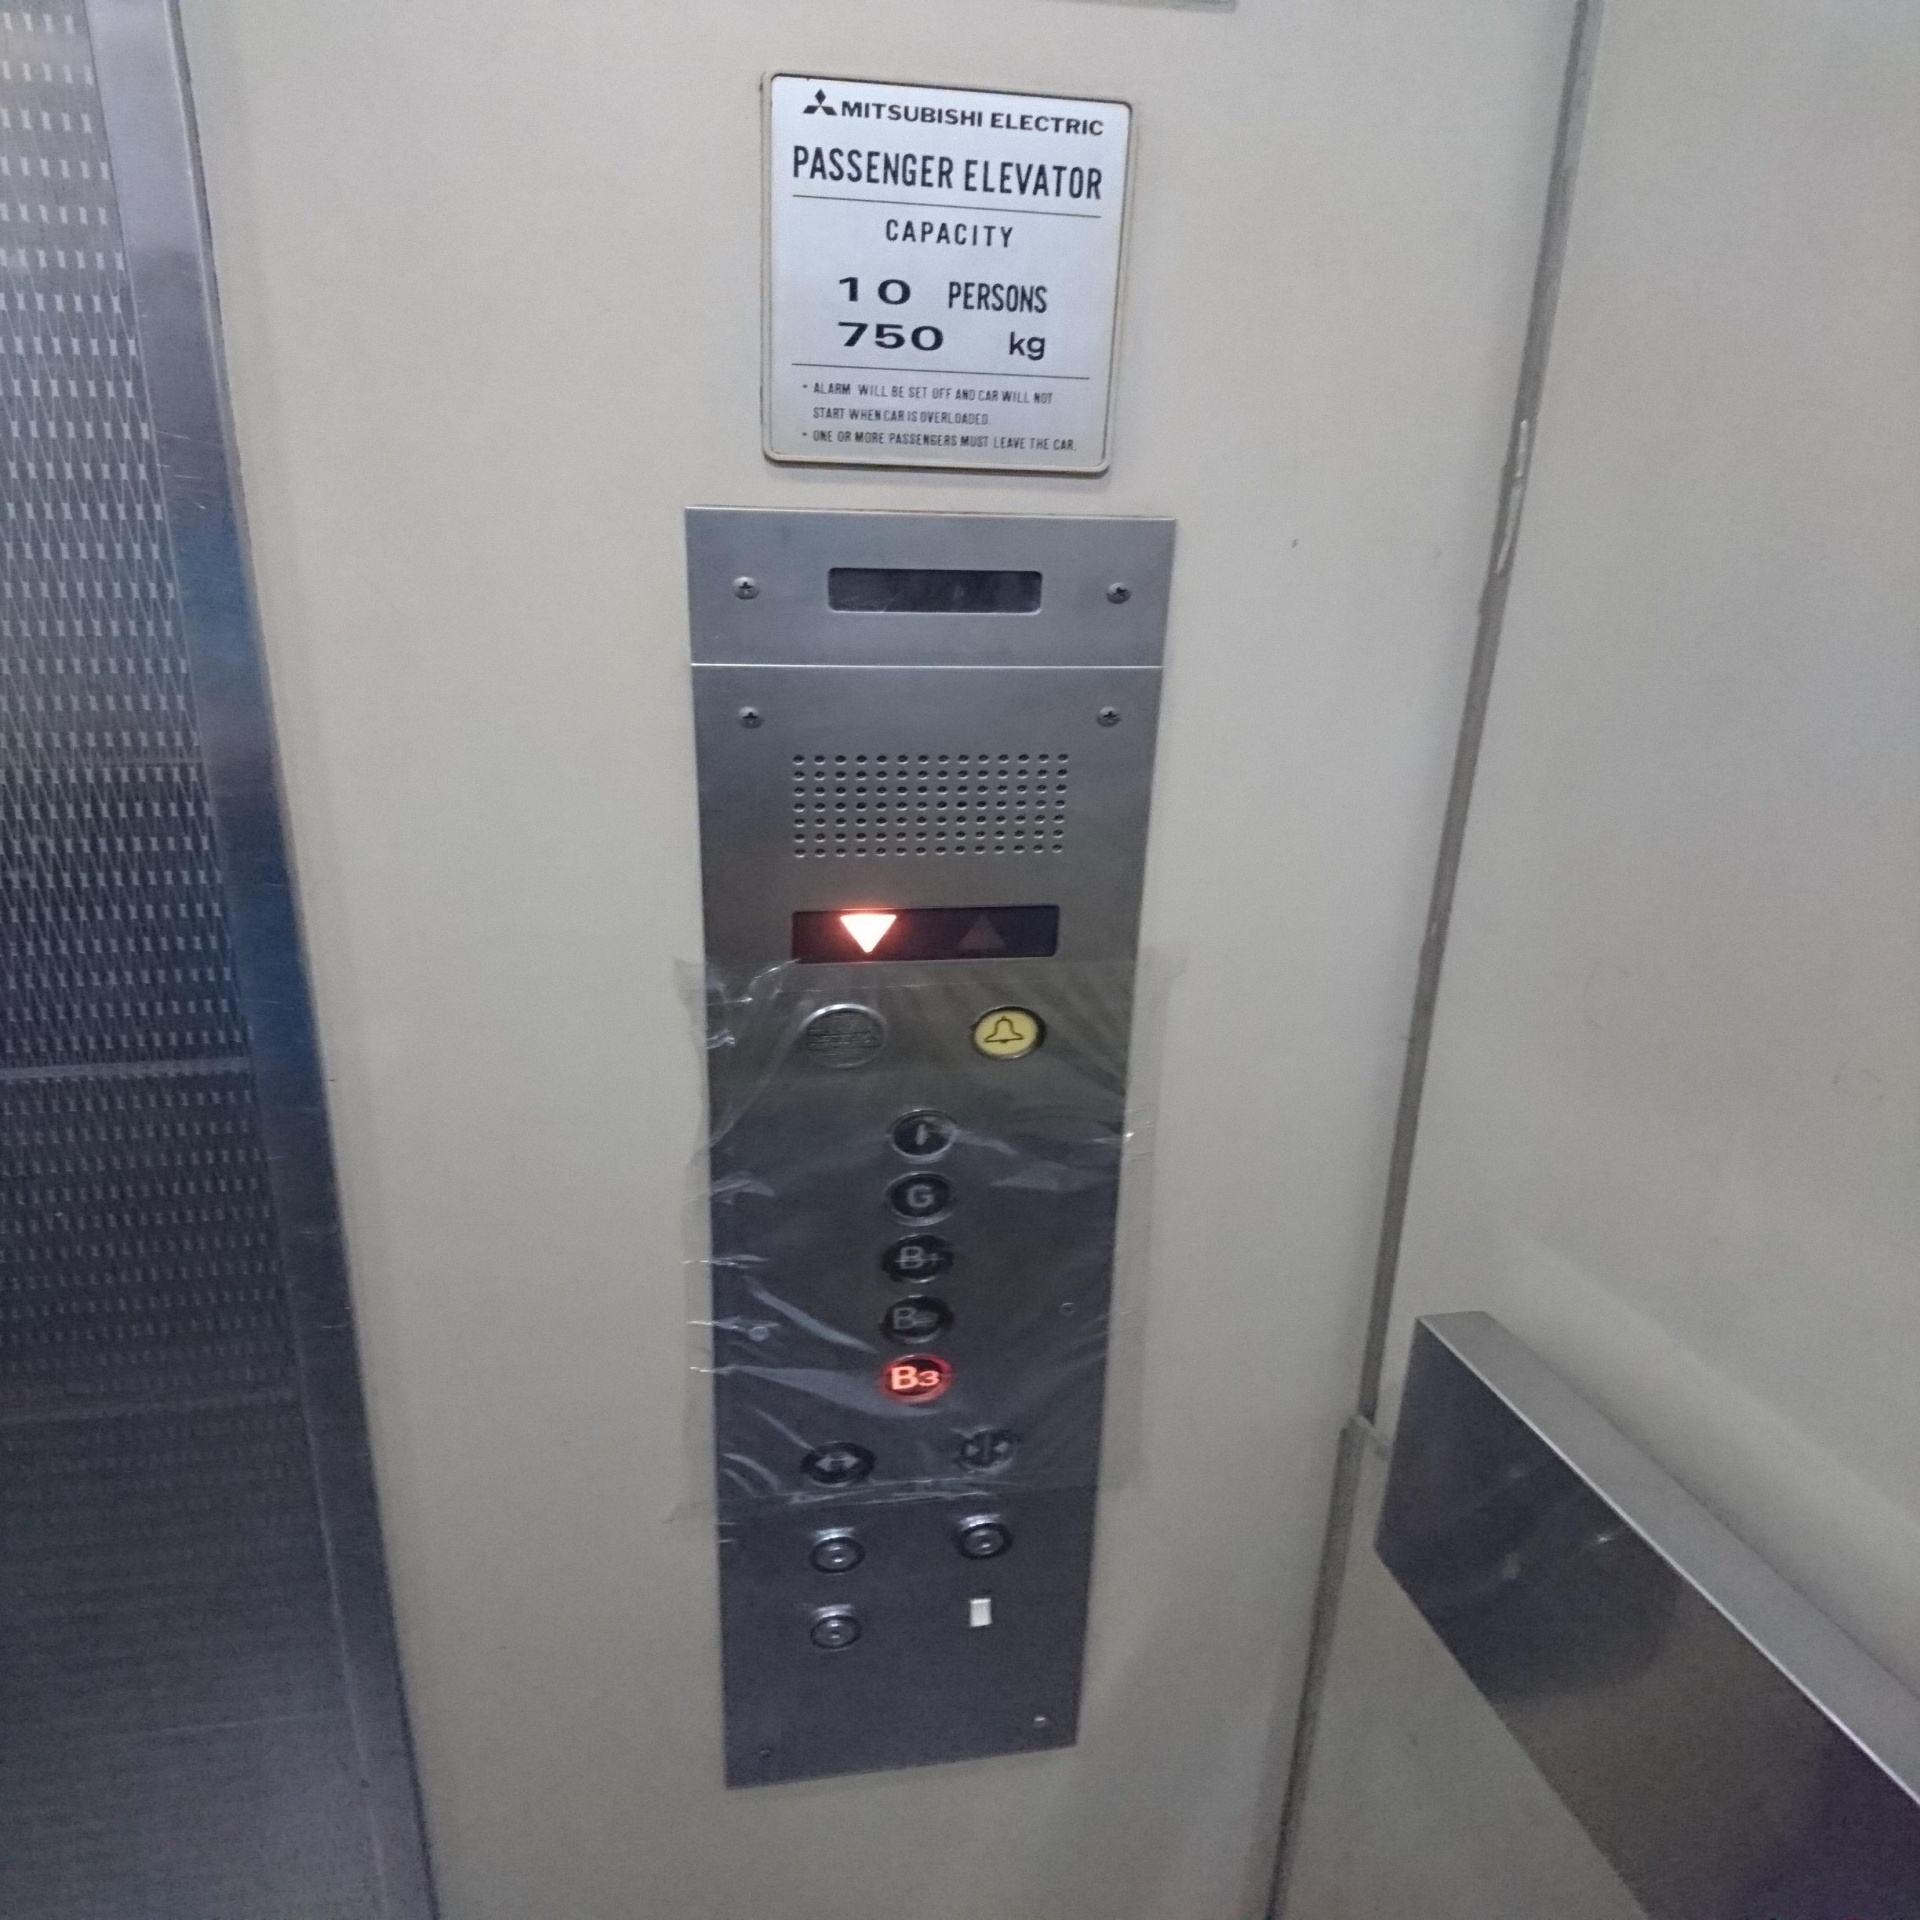1: (884, 1097, 965, 1166)
B1: (877, 1227, 958, 1291)
B2: (876, 1289, 956, 1352)
B3: (876, 1350, 956, 1415)
G: (883, 1166, 962, 1233)
alarm: (953, 997, 1057, 1074)
close: (948, 1417, 1029, 1482)
keyhole: (796, 1519, 877, 1584), (793, 1596, 874, 1662), (942, 1507, 1023, 1570)
open: (796, 1433, 877, 1496)
speaker: (791, 999, 893, 1078)
switch: (962, 1591, 1000, 1637)
